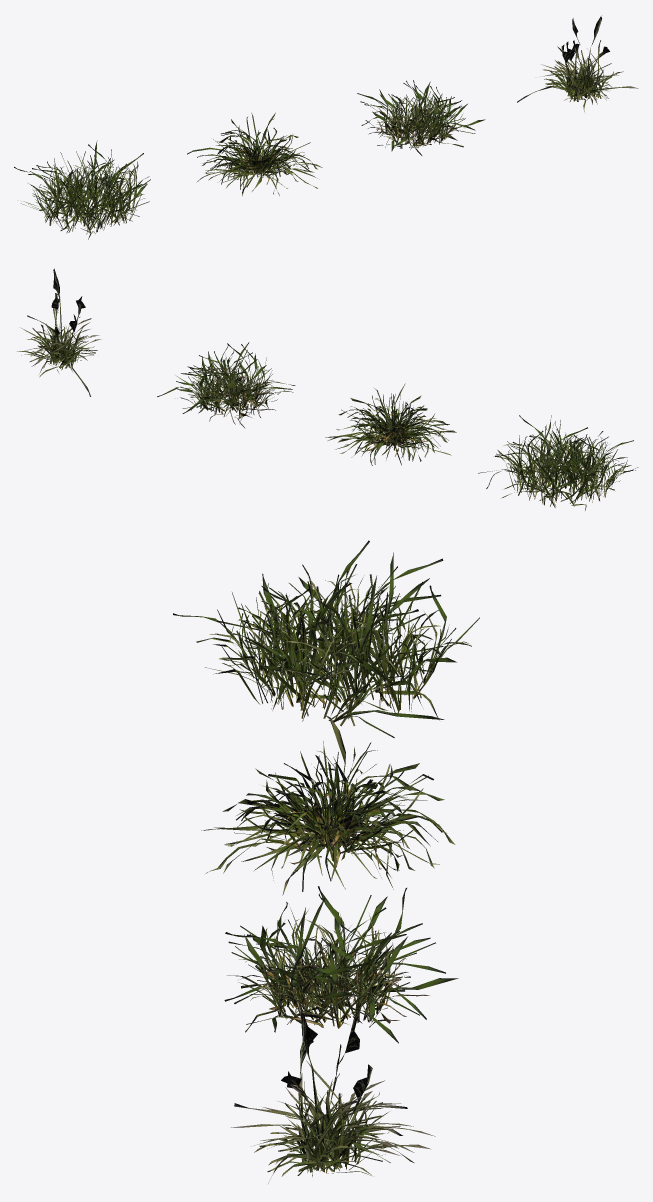
Rendered from winter_grass.glb.
3 views of the same model, one above another, from view 1: azimuth 30°, elevation 25°; view 2: azimuth 150°, elevation 25°; view 3: azimuth 270°, elevation 25° (orthographic). The views are drawn at different scales.
Parts seen in each view (by area): view 1: grass_medium_01_large_a_LOD0, grass_medium_01_large_c_LOD0, grass_medium_01_large_b_LOD0, grass_medium_01_mid_a_LOD0; view 2: grass_medium_01_large_a_LOD0, grass_medium_01_large_c_LOD0, grass_medium_01_large_b_LOD0, grass_medium_01_mid_a_LOD0; view 3: grass_medium_01_large_a_LOD0, grass_medium_01_large_c_LOD0, grass_medium_01_large_b_LOD0, grass_medium_01_mid_a_LOD0.
Boxes of the visible parts, bbox=[...] form: grass_medium_01_large_a_LOD0: bbox=[14, 140, 150, 239]; grass_medium_01_large_c_LOD0: bbox=[357, 80, 485, 155]; grass_medium_01_large_b_LOD0: bbox=[187, 112, 322, 196]; grass_medium_01_mid_a_LOD0: bbox=[517, 16, 638, 111]; grass_medium_01_large_a_LOD0: bbox=[478, 415, 638, 510]; grass_medium_01_large_c_LOD0: bbox=[157, 342, 295, 428]; grass_medium_01_large_b_LOD0: bbox=[325, 383, 456, 465]; grass_medium_01_mid_a_LOD0: bbox=[17, 268, 101, 396]; grass_medium_01_large_a_LOD0: bbox=[173, 540, 479, 737]; grass_medium_01_large_c_LOD0: bbox=[224, 886, 458, 1043]; grass_medium_01_large_b_LOD0: bbox=[201, 714, 455, 895]; grass_medium_01_mid_a_LOD0: bbox=[231, 1011, 435, 1183].
Size of the model in its own units: 1.46 by 0.2199 by 0.3271.
1 material, 1 textured.
